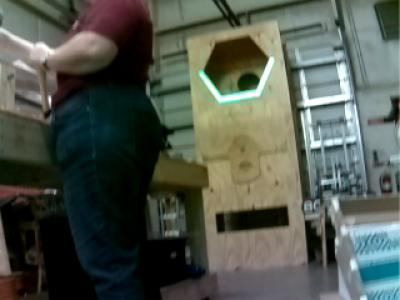target: (199, 57, 276, 103)
